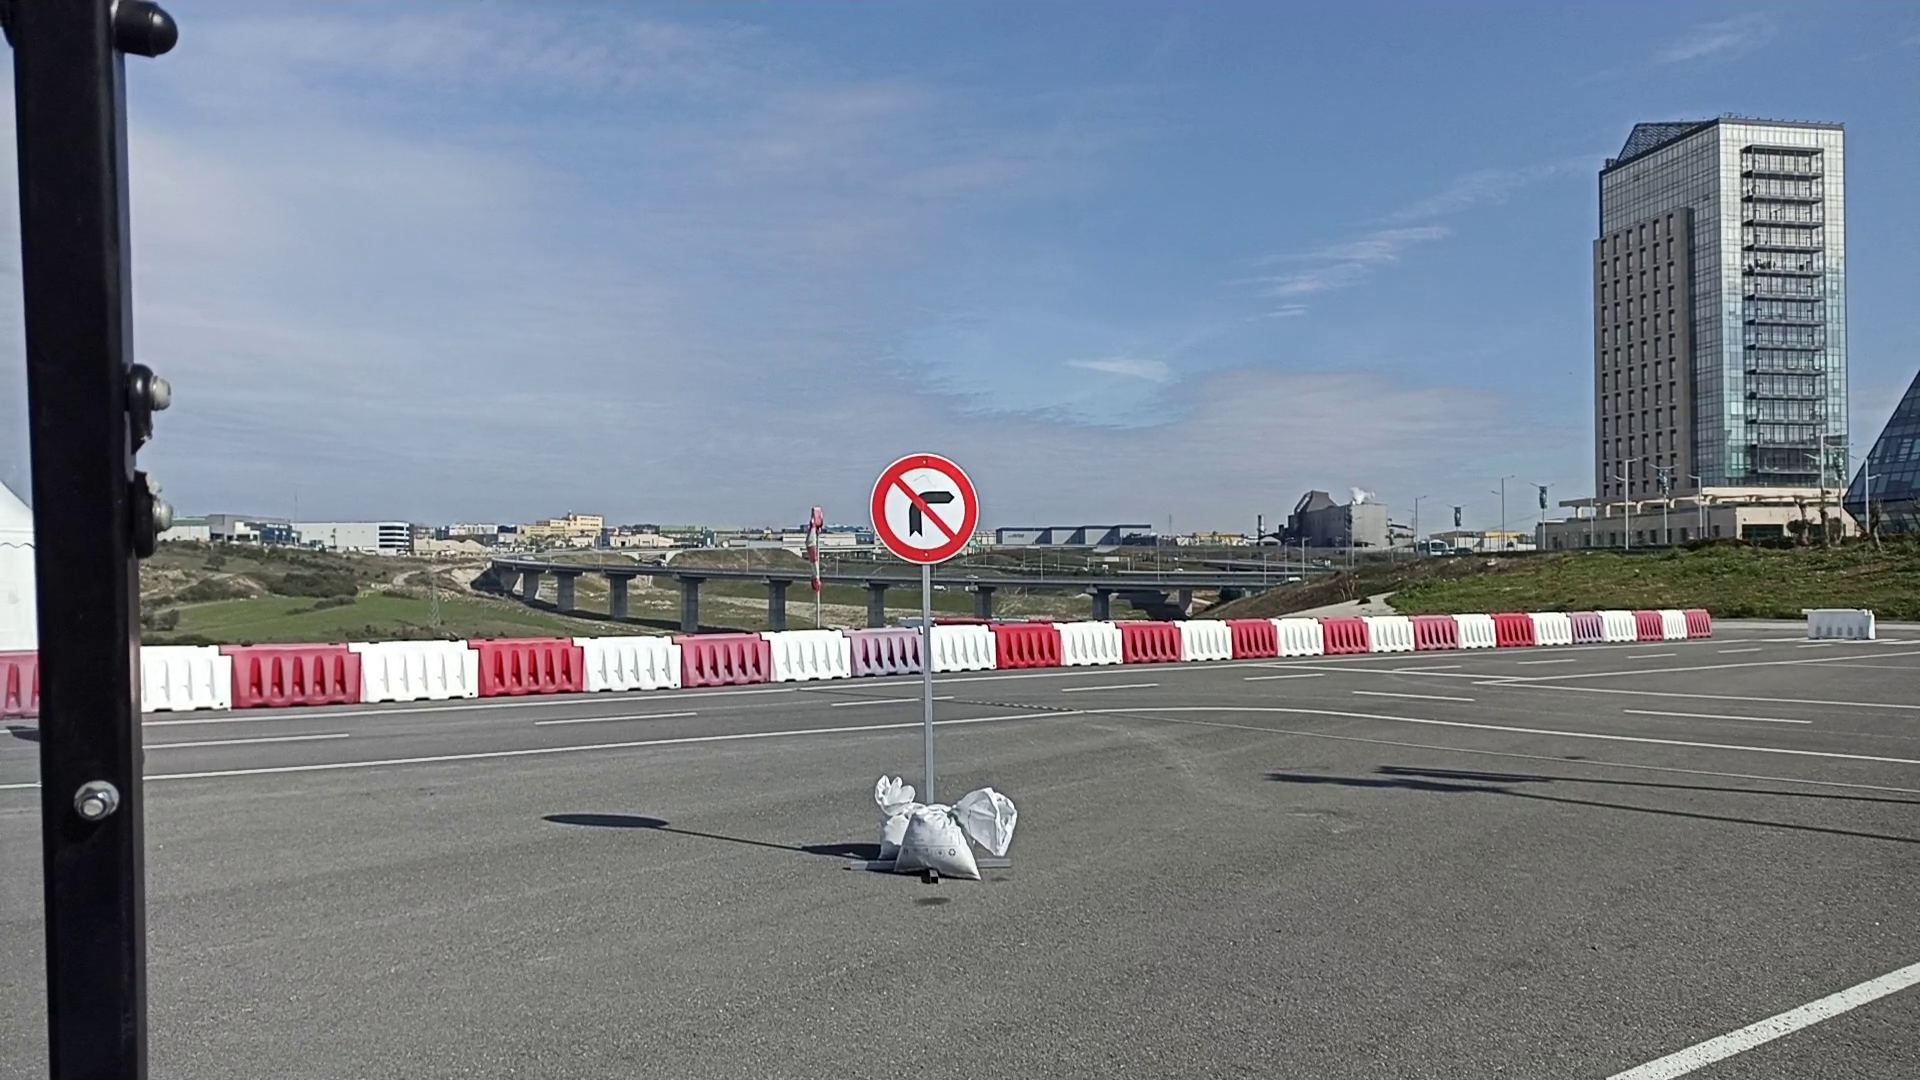noleftturn: (869, 454, 985, 567)
